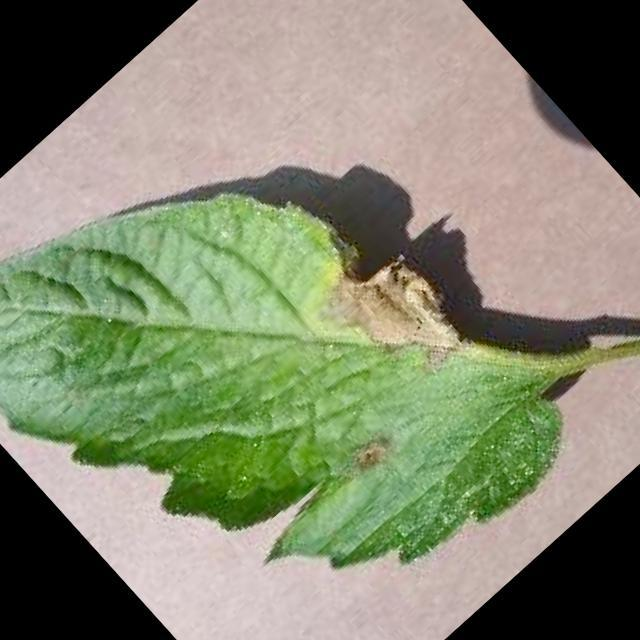Tomato late blight leaf: (0, 24, 584, 640)
